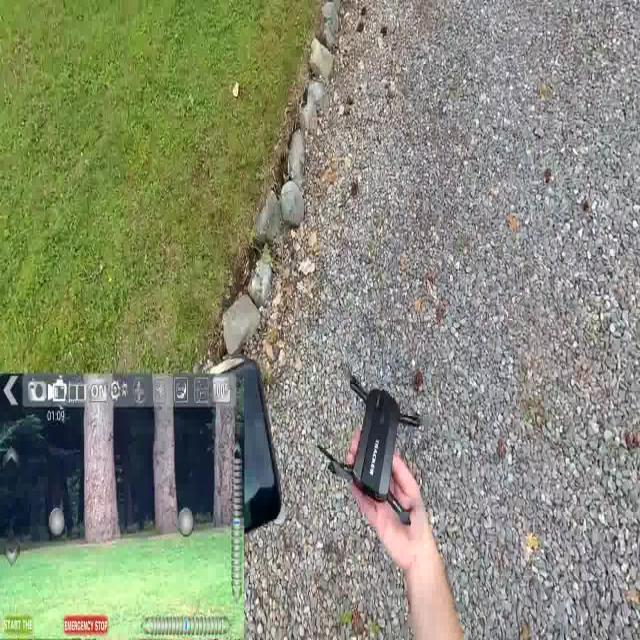drone: (317, 357, 437, 534)
